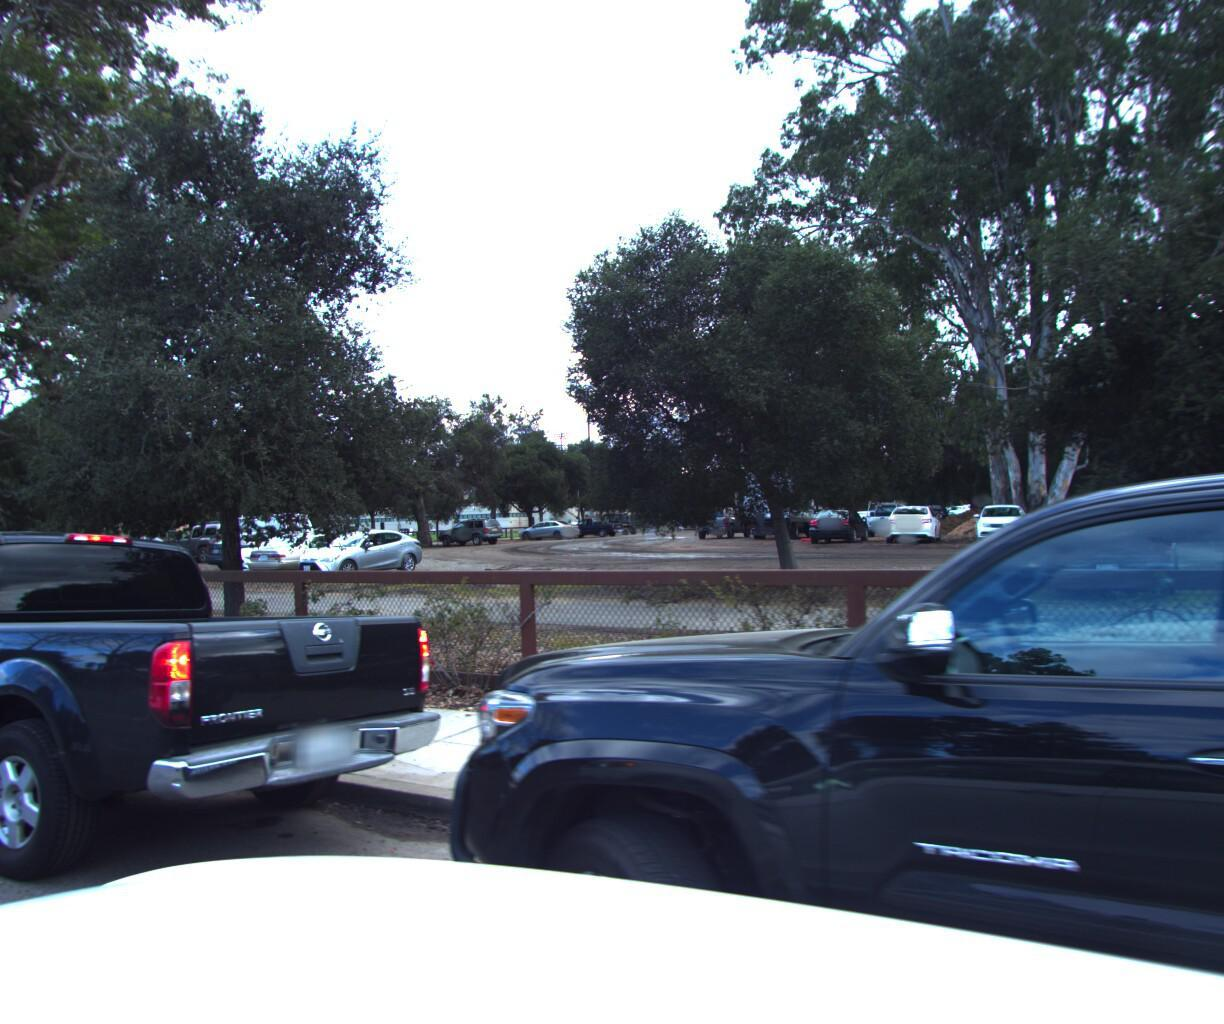car: (288, 0, 1224, 1024), (0, 519, 451, 978)
